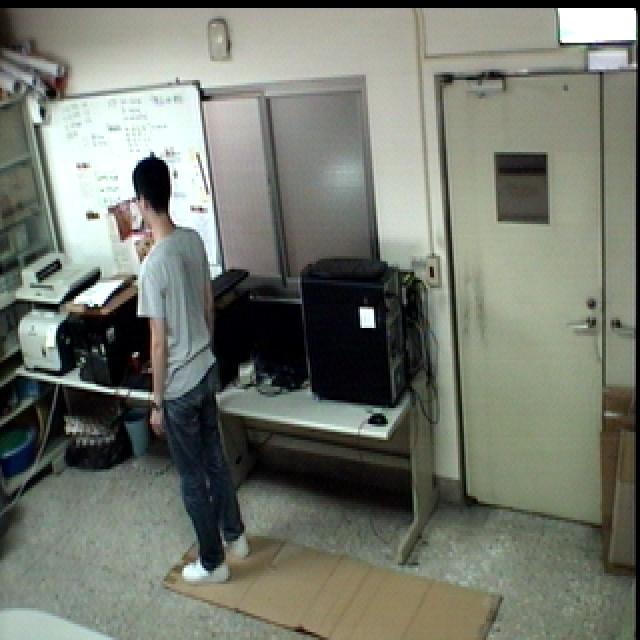stand: (127, 146, 257, 593)
